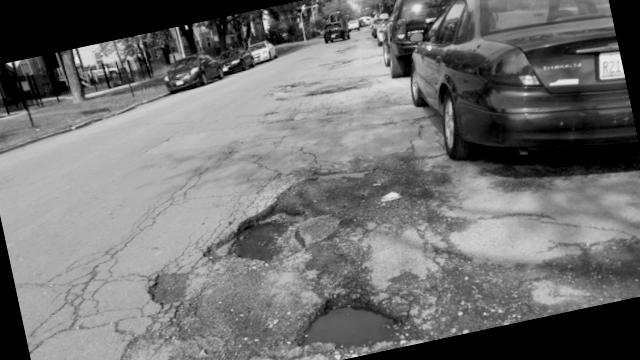Pothole: (107, 142, 410, 309), (260, 264, 429, 360), (286, 66, 369, 117)
